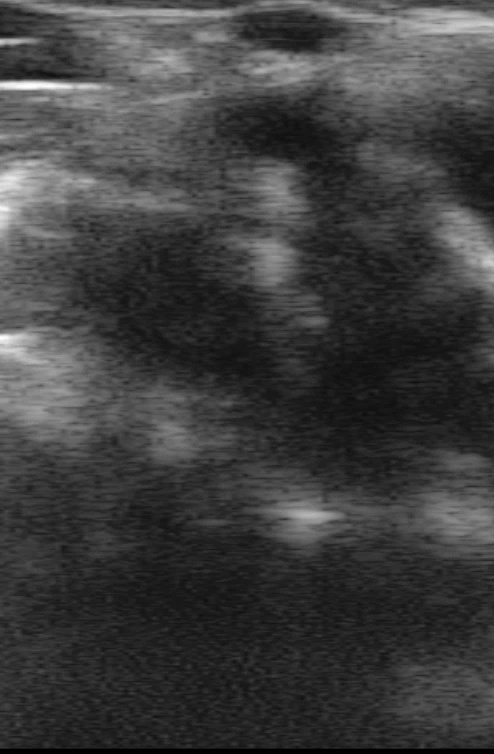veins_detect: (218, 5, 365, 64)
veins_seg: (239, 6, 342, 53)
